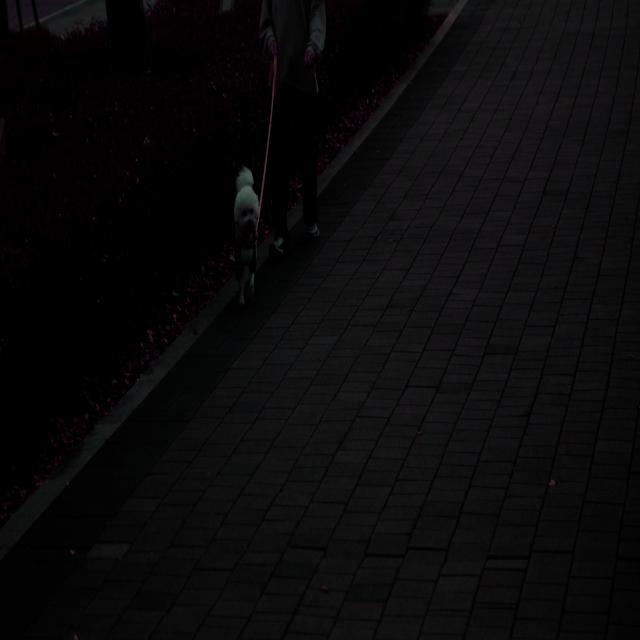Leashed_Dog: (234, 40, 290, 308)
